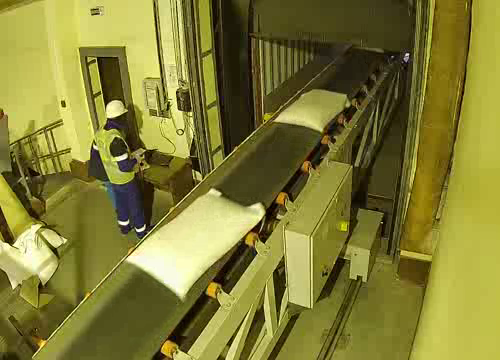bag: (119, 185, 273, 303), (272, 85, 356, 138)
